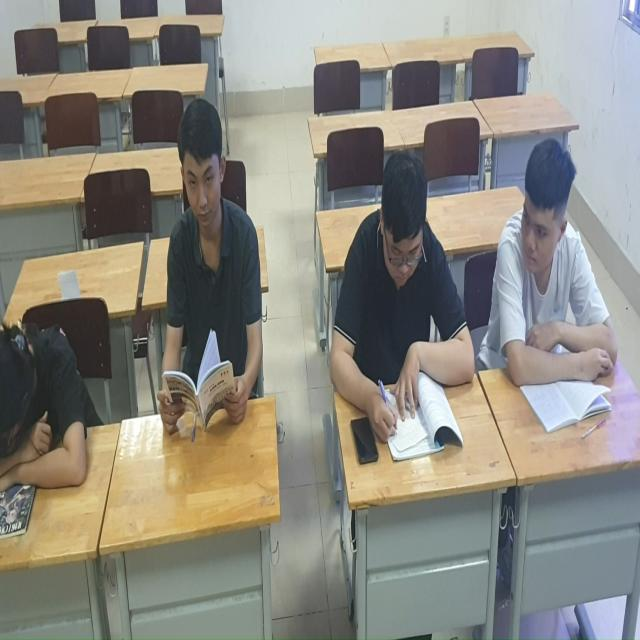read: (323, 147, 483, 465), (154, 94, 266, 467), (486, 134, 623, 438)
sleep: (1, 295, 101, 524)
